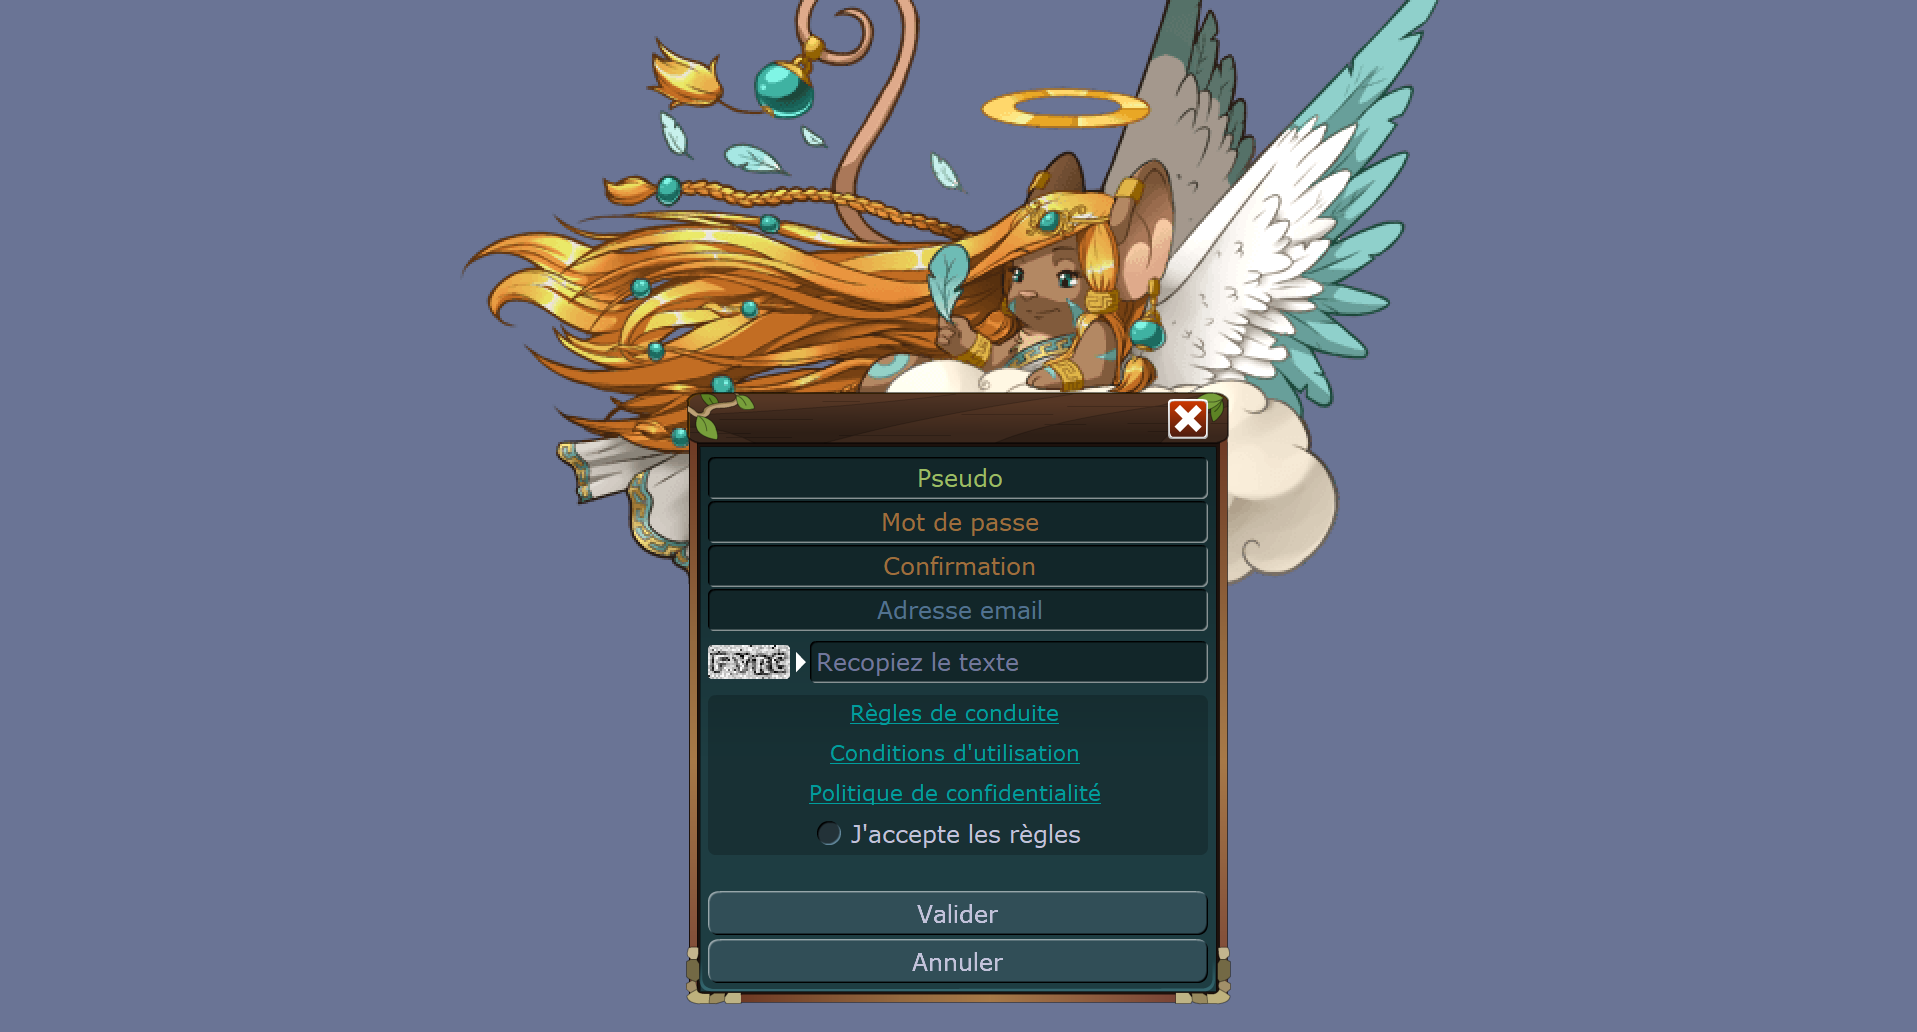C: (769, 648, 788, 676)
CAPTCHA: (708, 644, 790, 679)
F: (710, 652, 730, 674)
R: (752, 653, 771, 677)
Y: (732, 649, 752, 676)
